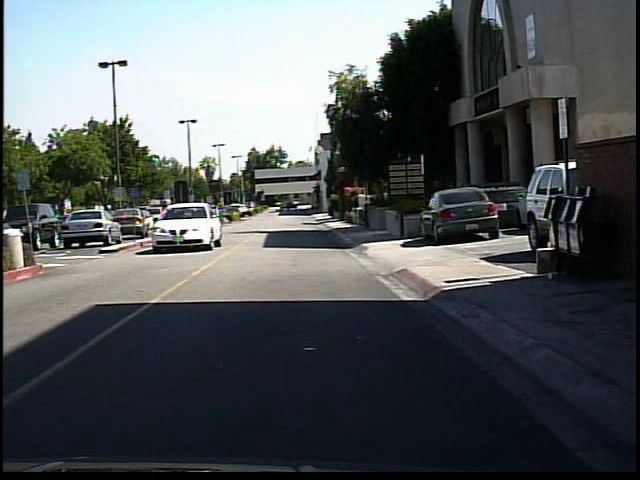person: (154, 194, 179, 249)
